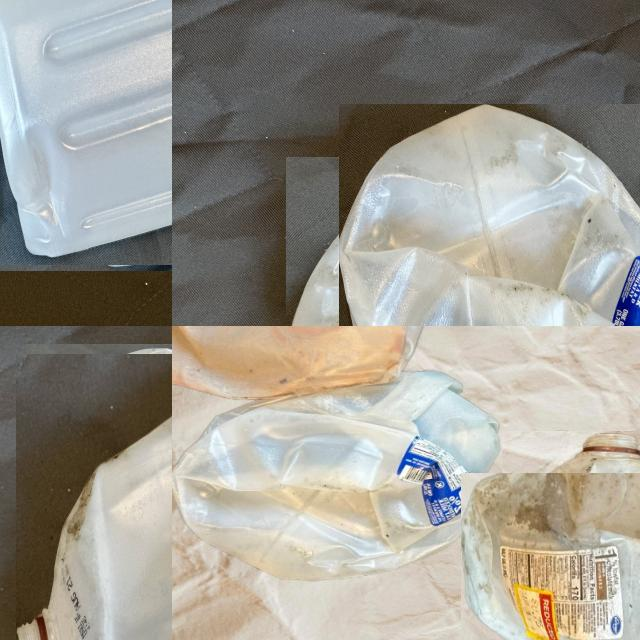milk-jug: (175, 365, 489, 581), (312, 129, 640, 326), (0, 0, 172, 267), (20, 348, 172, 640), (481, 450, 640, 640), (172, 326, 430, 392)
